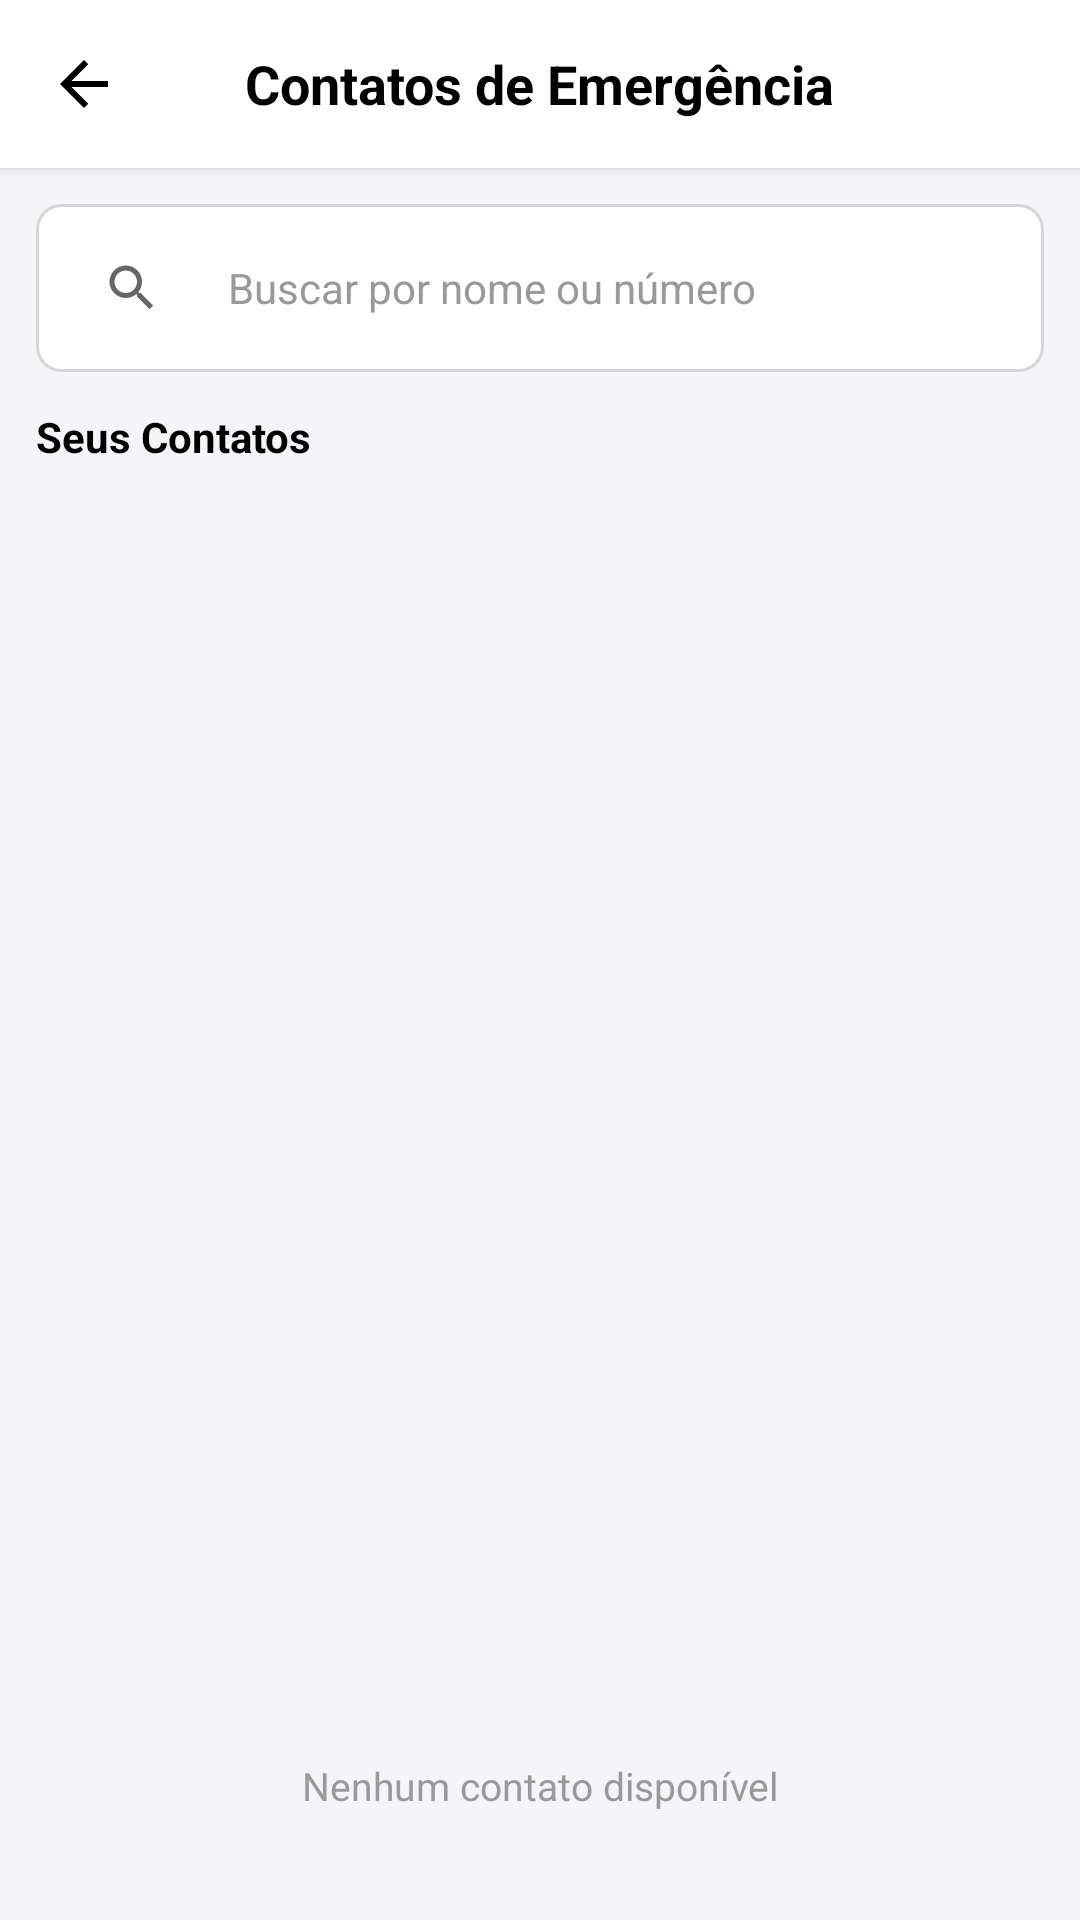

Where to tap for icons on this 1080 × 1920 app screen, as point (x, y):
Voltar: point (84, 84)
